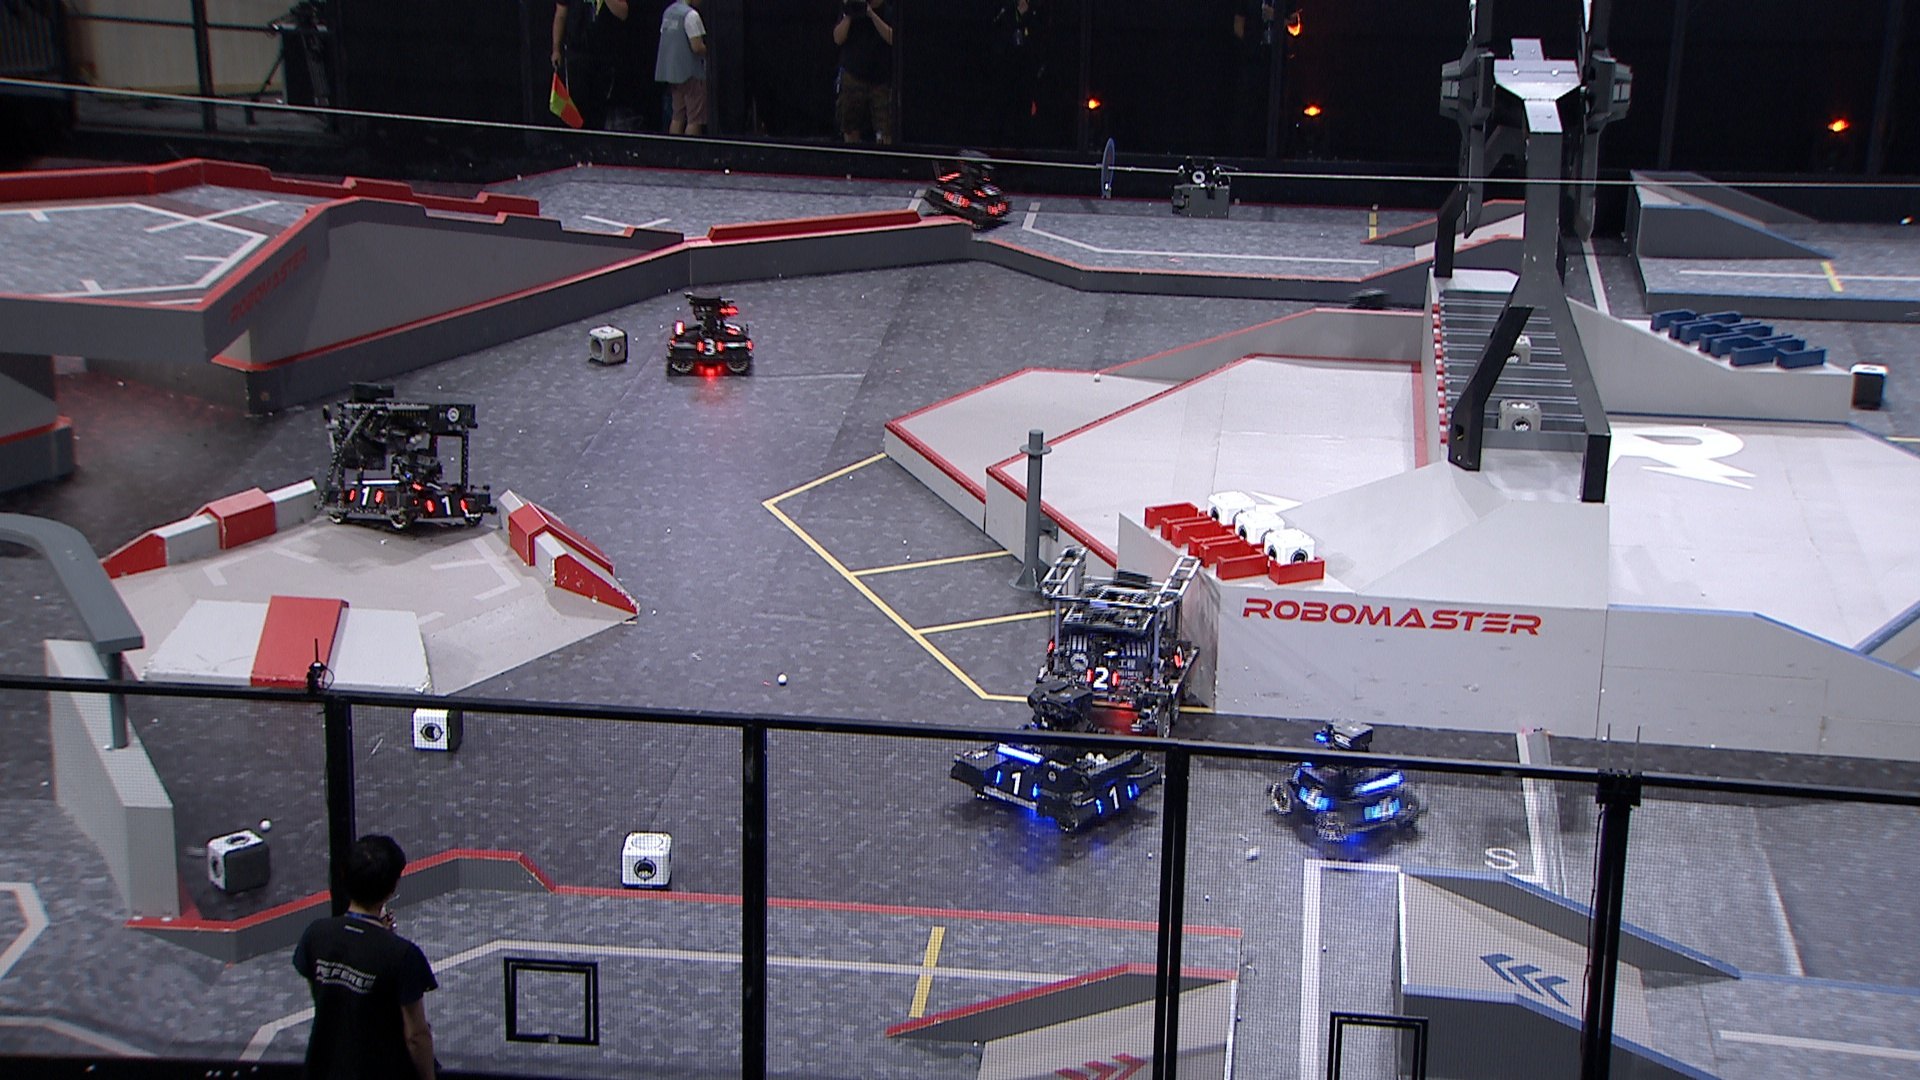armor: (1092, 782, 1130, 818), (996, 771, 1036, 800), (1299, 785, 1331, 814), (1367, 796, 1400, 822), (1083, 669, 1117, 692), (425, 495, 465, 513), (343, 487, 378, 505), (414, 473, 451, 491), (698, 339, 724, 356), (945, 191, 972, 206), (1174, 642, 1187, 669), (978, 182, 1001, 196), (723, 319, 738, 335), (992, 199, 1007, 214)
car: (945, 675, 1160, 835), (1034, 541, 1201, 738), (316, 377, 495, 531), (1266, 717, 1424, 853), (922, 149, 1021, 229), (662, 289, 752, 375)
